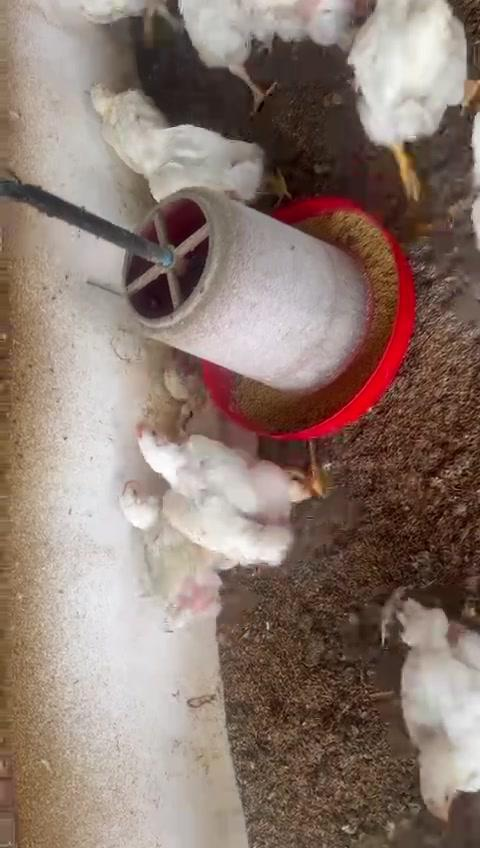AbNormal: (397, 589, 480, 820), (85, 79, 168, 148), (159, 355, 202, 447)
Normal: (134, 420, 327, 557), (350, 0, 477, 190), (110, 100, 263, 206), (122, 474, 226, 613), (180, 0, 277, 102), (241, 2, 352, 50), (42, 0, 181, 31)
